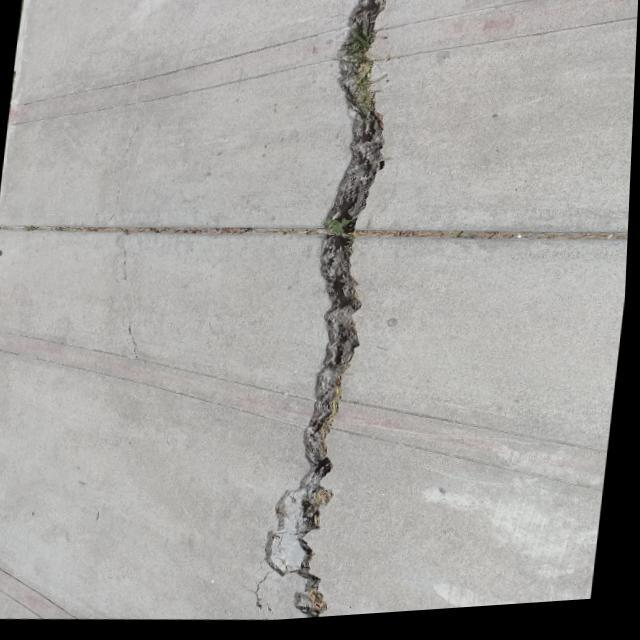hole: (273, 0, 401, 625)
